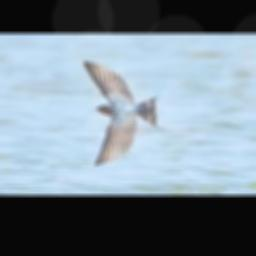Swallow: (84, 60, 168, 165)
